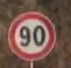limite 90: (6, 10, 57, 62)
